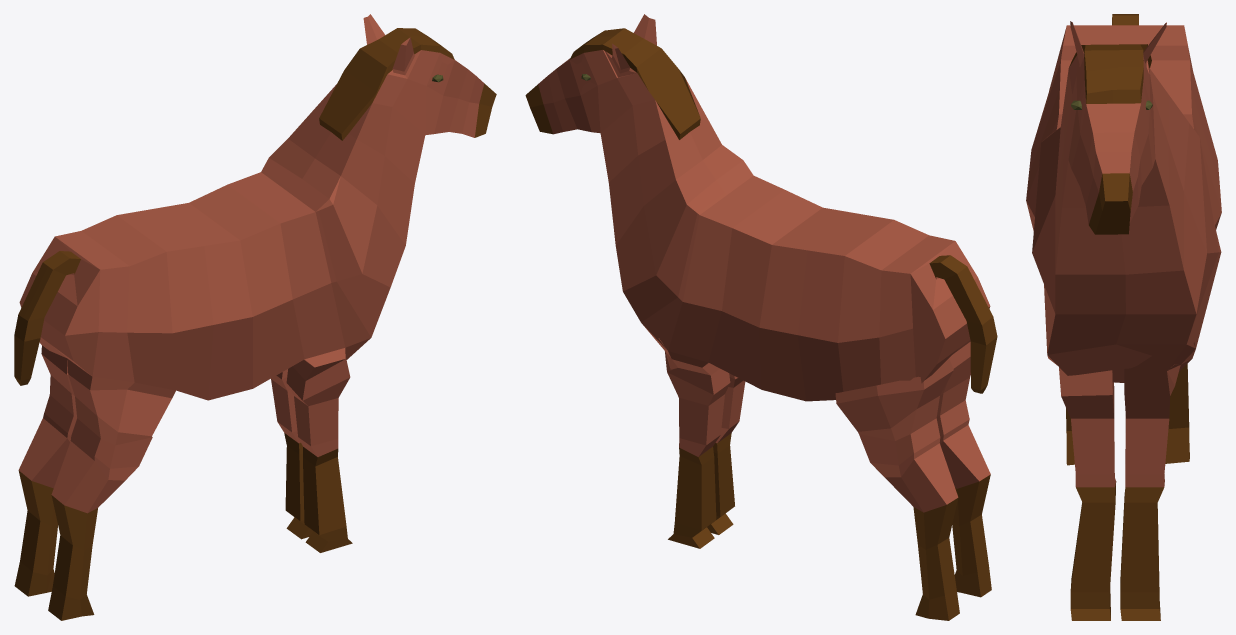
File: horse.fbx
3 renders of one model, left to right at view 1: azimuth 30°, elevation 25°; view 2: azimuth 150°, elevation 25°; view 3: azimuth 270°, elevation 25°, orthographic. The views are drawn at different scales.
Visible parts, largest first — view 1: horse; view 2: horse; view 3: horse.
Boxes of the visible parts, x1,y1,x2,y2 form: horse: (14, 14, 496, 620); horse: (525, 14, 997, 620); horse: (1026, 14, 1221, 620).
Bounding box in the file's own units: 709 × 718 × 198.
